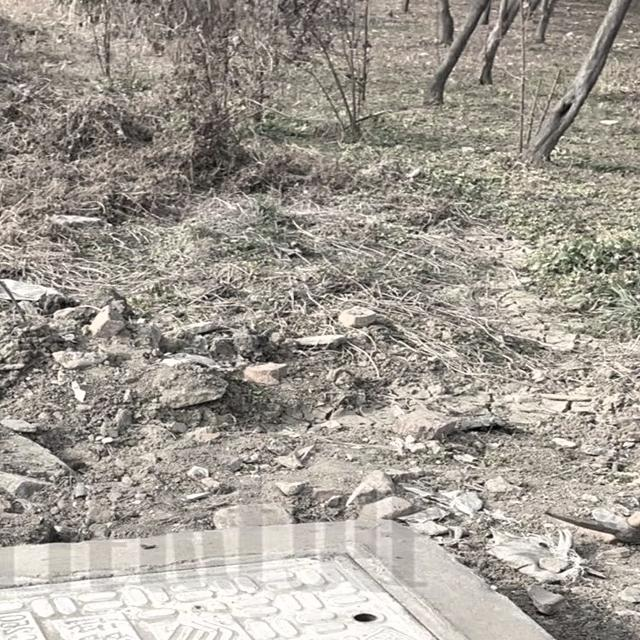uncovered: (0, 516, 640, 640)
